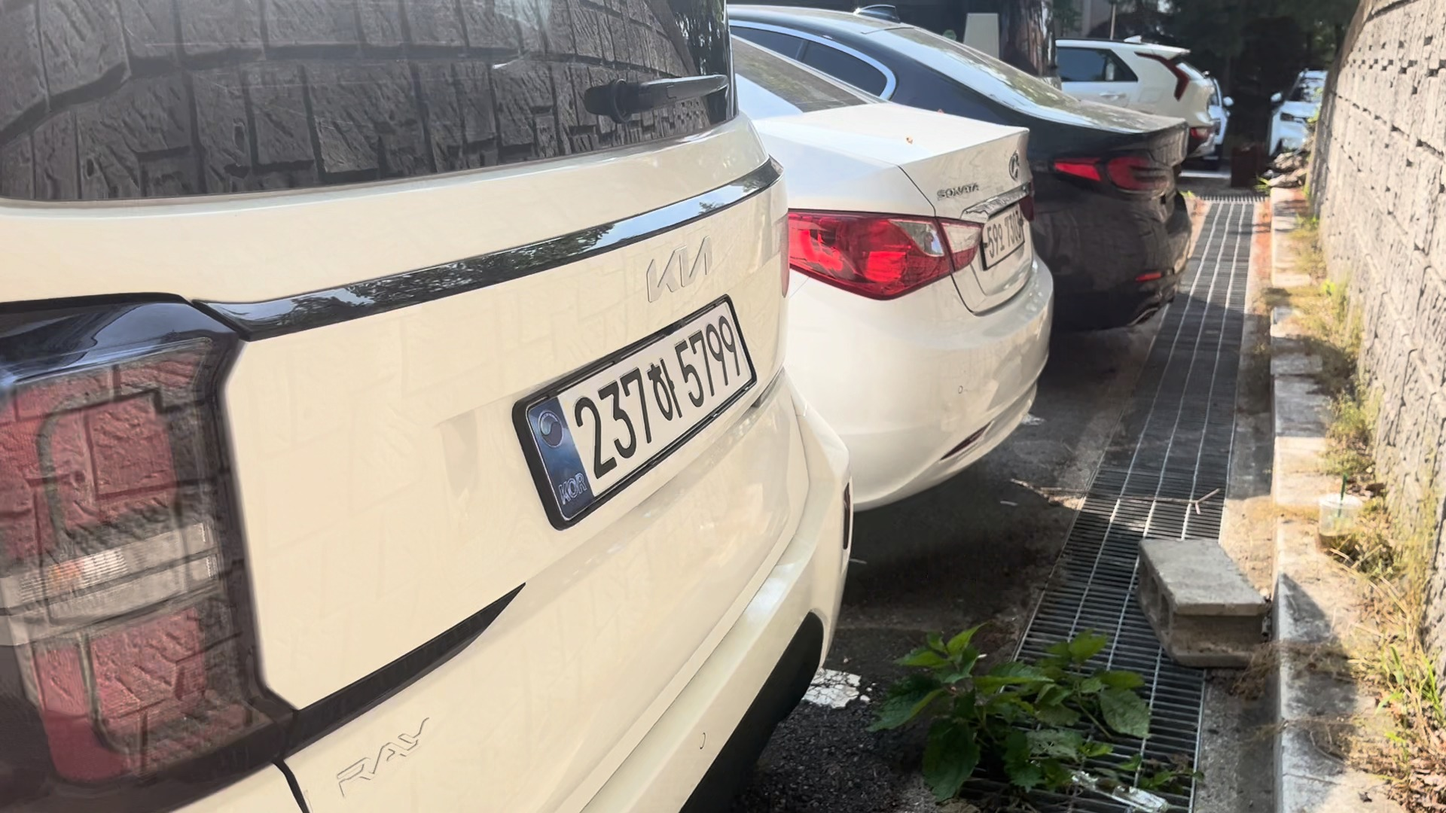car_emblem: (643, 237, 718, 315)
license_plate: (518, 297, 755, 527), (982, 204, 1028, 267)
tail_light: (0, 302, 291, 809), (789, 211, 981, 299)
